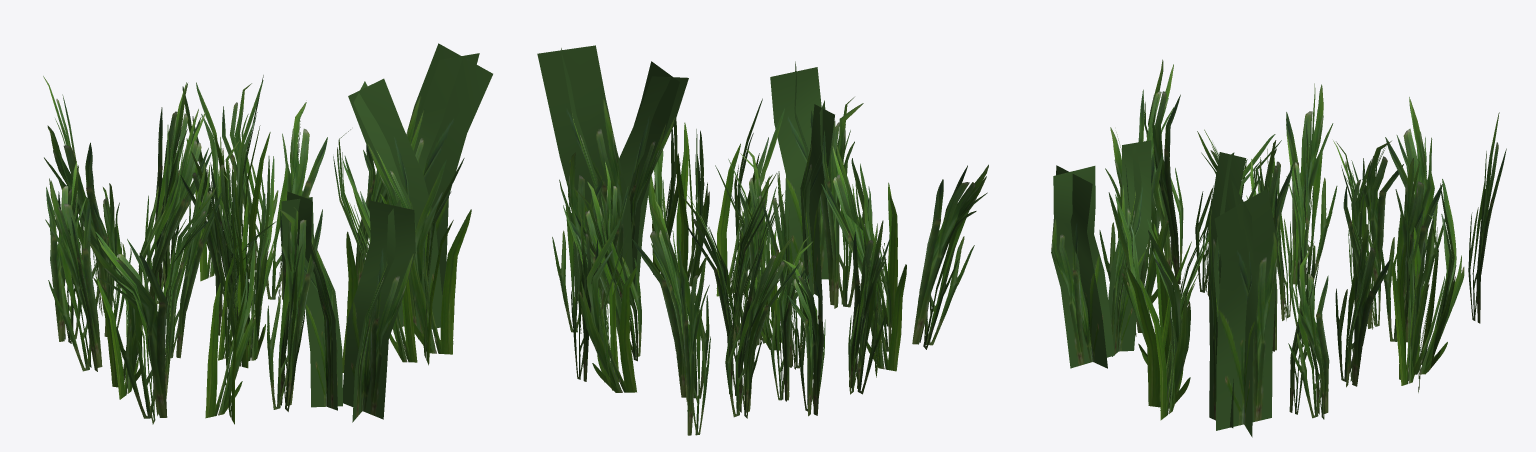
The model's file is Grass.obj.
The picture shows the model from 3 angles, left to right: view 1: azimuth 30°, elevation 25°; view 2: azimuth 150°, elevation 25°; view 3: azimuth 270°, elevation 25°; orthographic projection. The views are drawn at different scales.
Parts seen in each view (by area): view 1: Backyard_Grass_Hero_35_Mesh.005; view 2: Backyard_Grass_Hero_35_Mesh.005; view 3: Backyard_Grass_Hero_35_Mesh.005.
Boxes of the visible parts, x1,y1,x2,y2 form: Backyard_Grass_Hero_35_Mesh.005: (43,43,492,424); Backyard_Grass_Hero_35_Mesh.005: (537,45,988,435); Backyard_Grass_Hero_35_Mesh.005: (1051,59,1506,437).
Bounding box in the file's own units: 0.4095 × 0.2251 × 0.374.
3 materials, 3 textured.
